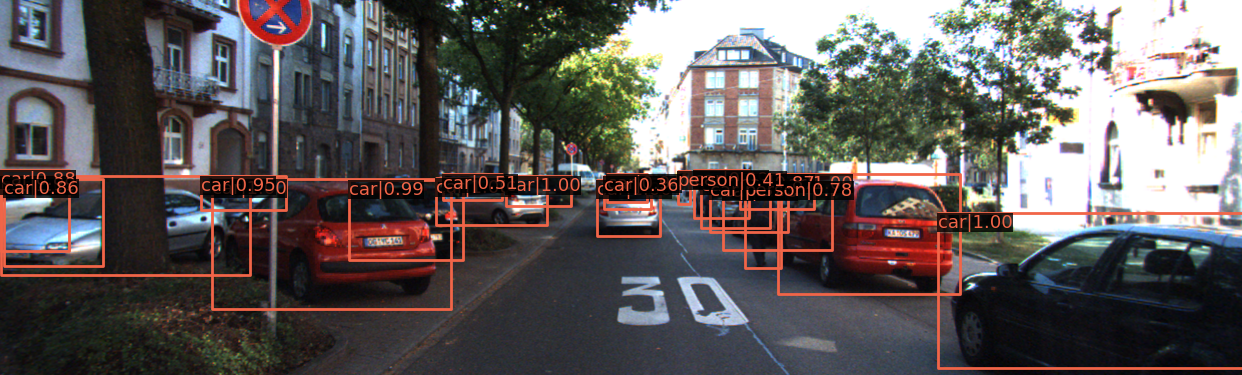car: (940, 210, 1242, 375), (226, 178, 443, 307), (1, 186, 238, 282), (773, 175, 964, 291), (293, 182, 466, 271), (199, 182, 342, 247), (729, 185, 822, 245), (435, 182, 549, 228), (1, 171, 66, 238), (597, 183, 660, 235), (706, 184, 773, 229), (693, 174, 753, 219), (477, 178, 551, 213), (493, 179, 566, 211), (609, 177, 646, 210)
person: (738, 182, 780, 265), (680, 177, 695, 205)
